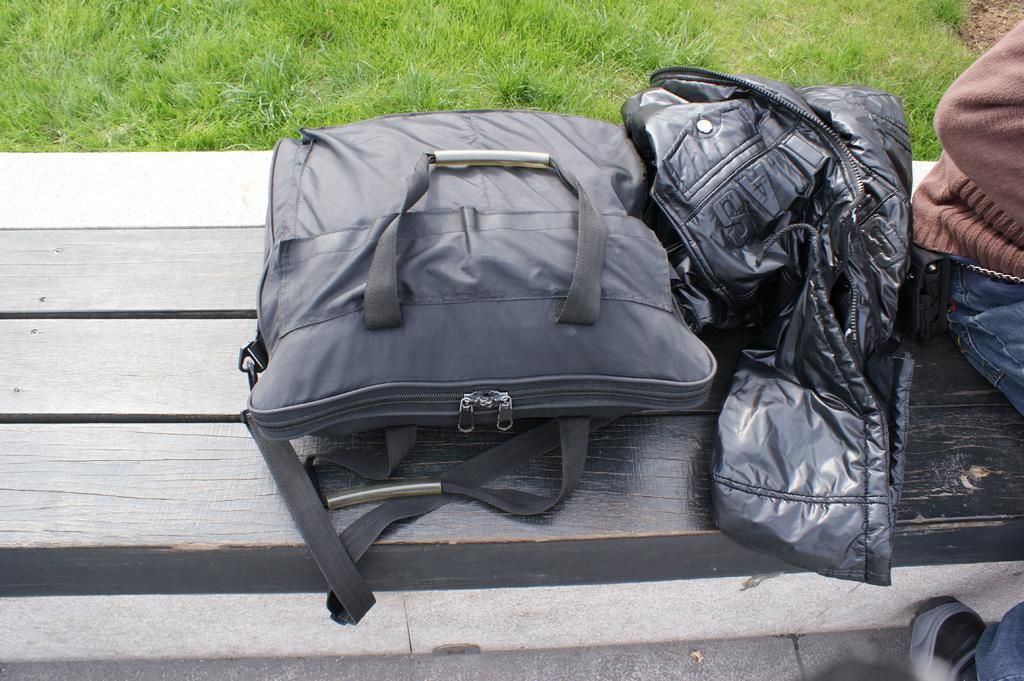Luggage-and-bags: (237, 113, 734, 600), (624, 73, 919, 591)
